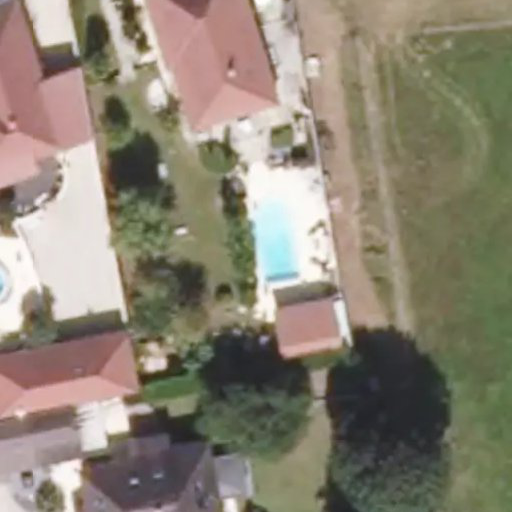pool: (231, 201, 279, 280)
